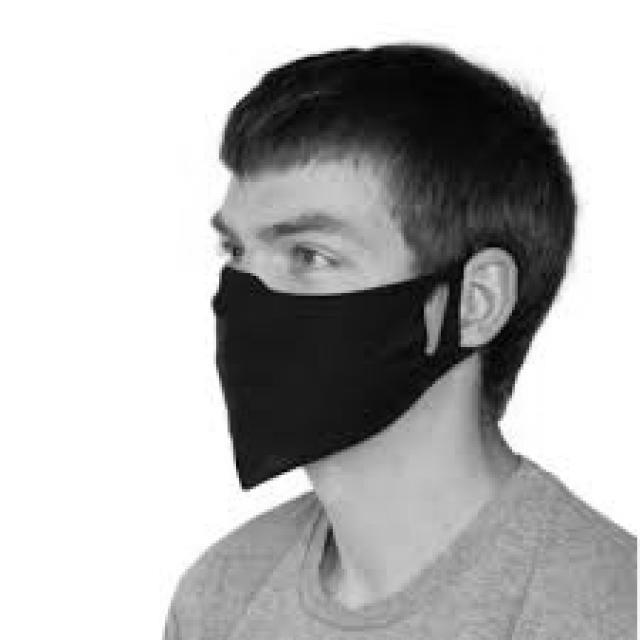fake: (207, 260, 470, 501)
real: (205, 164, 418, 496)
